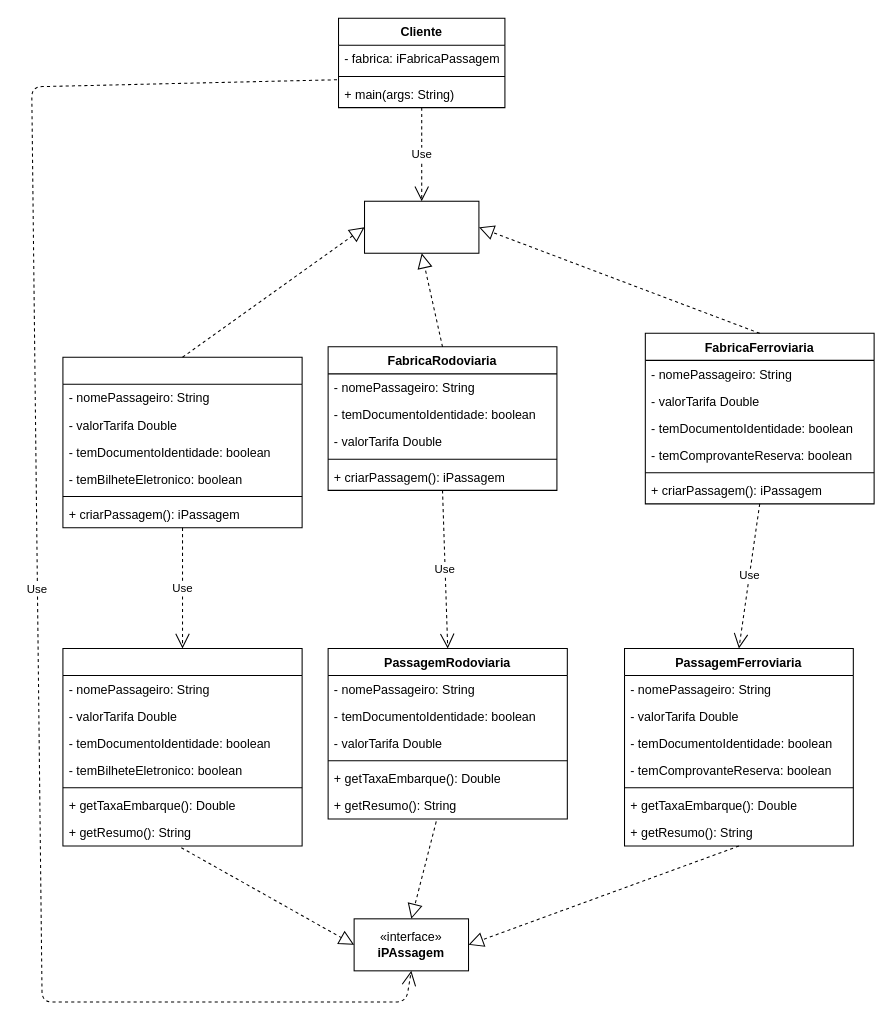
The diagram is 892 pixels wide and 1035 high, and some of its shapes have lost their labels. The box of each missing label's shape, as (x1, y1, x2, y2) in pixels:
FabricaAerea: (62, 356, 302, 528)
PassagemAerea: (62, 647, 302, 846)
«interface» iFabricaPassagem: (363, 200, 479, 253)
